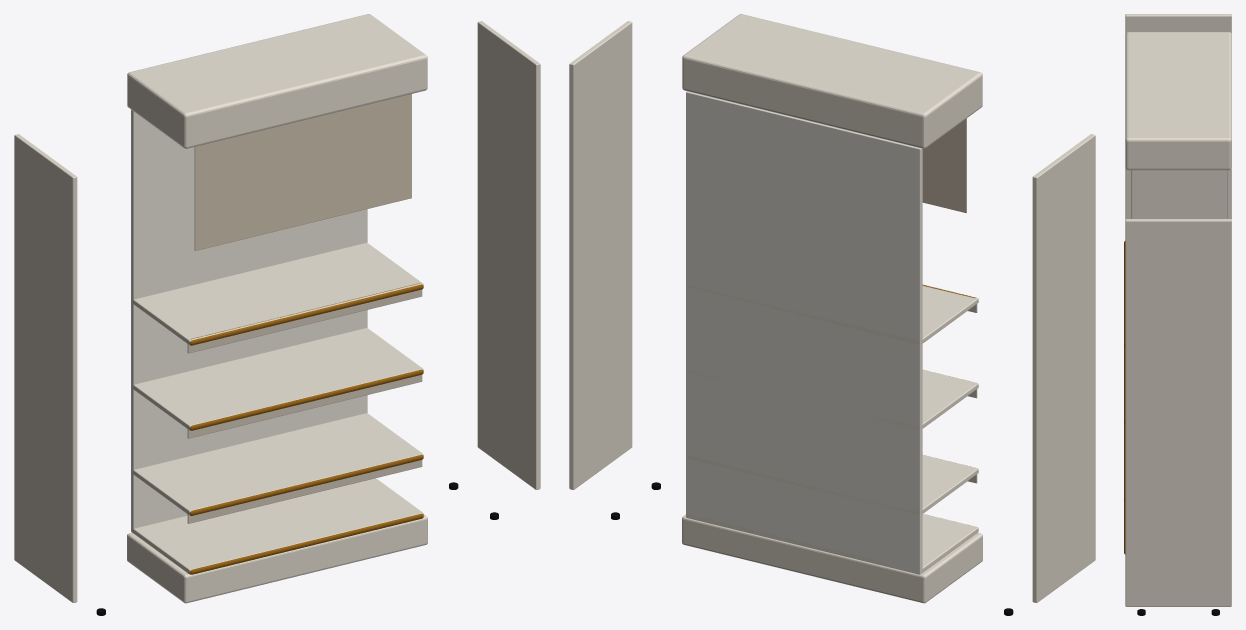
The model's file is rack.obj.
3 views of the same model, side by side, from view 1: azimuth 30°, elevation 25°; view 2: azimuth 150°, elevation 25°; view 3: azimuth 270°, elevation 25° (orthographic). The views are drawn at different scales.
Parts seen in each view (by area): view 1: back.panel, side.panel_1, side.panel_2, crown.arch, panel.header.backlit, shelf.mid_2, shelf.mid_1, shelf.mid_3, deck.bottom, plinth.base, lip.shelf_3, lip.shelf_2 (+5 smaller); view 2: back.panel, side.panel_1, side.panel_2, crown.arch, plinth.base, panel.header.backlit, shelf.mid_3, deck.bottom, shelf.mid_1, shelf.mid_2; view 3: side.panel_2, crown.arch, side.panel_1, back.panel, trim.gold.shelf_3.
Part boxes in pixels (x1,y1,x2,y2): back.panel: [131, 109, 367, 533]; side.panel_1: [14, 134, 77, 602]; side.panel_2: [477, 21, 540, 489]; crown.arch: [127, 14, 427, 148]; panel.header.backlit: [194, 94, 411, 250]; shelf.mid_2: [133, 328, 423, 430]; shelf.mid_1: [131, 413, 423, 515]; shelf.mid_3: [133, 242, 423, 345]; deck.bottom: [131, 478, 423, 574]; plinth.base: [127, 514, 427, 603]; lip.shelf_3: [187, 284, 422, 353]; lip.shelf_2: [187, 374, 422, 438]; back.panel: [686, 91, 922, 574]; side.panel_1: [1032, 134, 1095, 602]; side.panel_2: [569, 21, 632, 489]; crown.arch: [682, 14, 982, 148]; plinth.base: [682, 514, 982, 603]; panel.header.backlit: [922, 118, 966, 212]; shelf.mid_3: [686, 284, 978, 344]; deck.bottom: [686, 514, 978, 573]; shelf.mid_1: [686, 455, 978, 514]; shelf.mid_2: [687, 370, 978, 429]; side.panel_2: [1125, 219, 1231, 606]; crown.arch: [1125, 32, 1231, 170]; side.panel_1: [1125, 14, 1231, 219]; back.panel: [1227, 168, 1231, 218]; trim.gold.shelf_3: [1124, 241, 1125, 346].
Size of the model in its own units: 1.75 by 1.75 by 0.3859.
